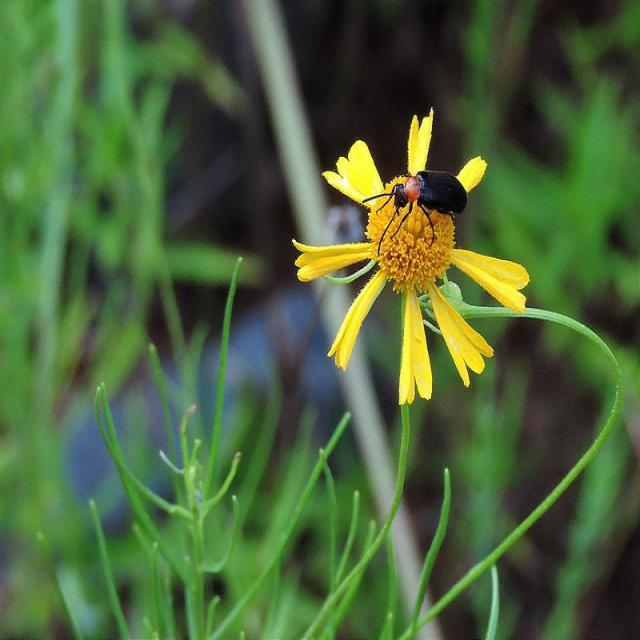BlisterBeetle-Adult-: (358, 168, 472, 260)
